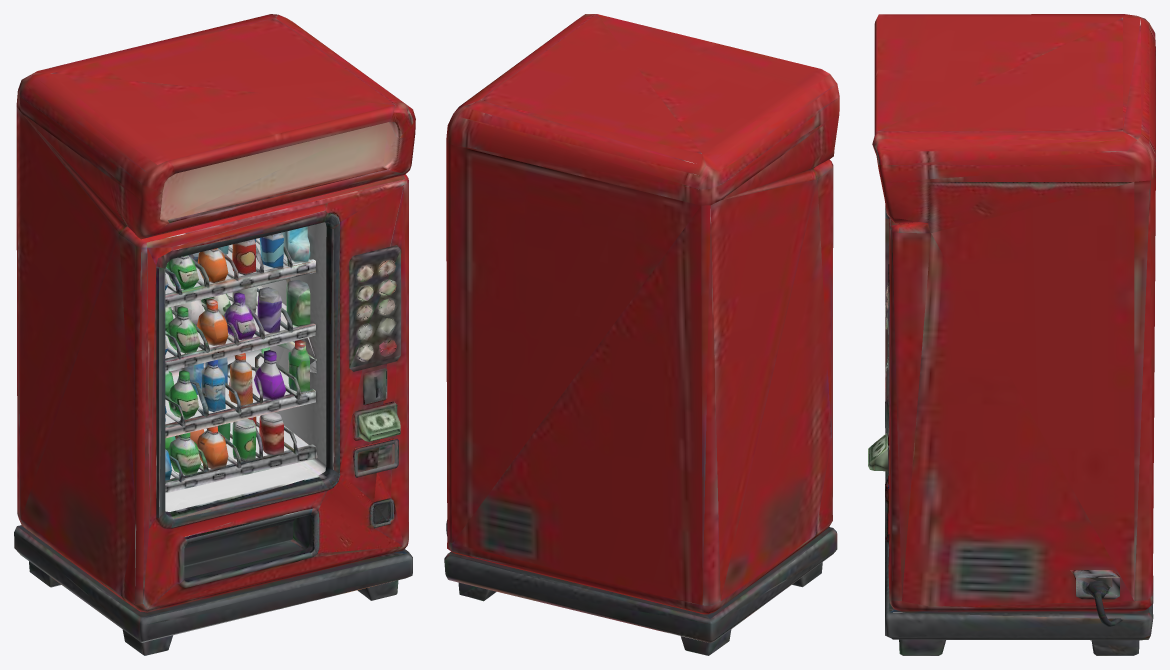
The model's file is vending.glb.
3 renders of one model, left to right at view 1: azimuth 30°, elevation 25°; view 2: azimuth 150°, elevation 25°; view 3: azimuth 270°, elevation 25°, orthographic. The views are drawn at different scales.
Parts seen in each view (by area): view 1: vending; view 2: vending; view 3: vending.
Boxes of the visible parts, x1=… form: vending: x1=14, y1=14, x2=415, y2=655; vending: x1=444, y1=14, x2=839, y2=655; vending: x1=868, y1=14, x2=1155, y2=655.
Bounding box in the file's own units: 0.92 × 1.5 × 0.755.
Materials: 1 (1 with a texture image).
